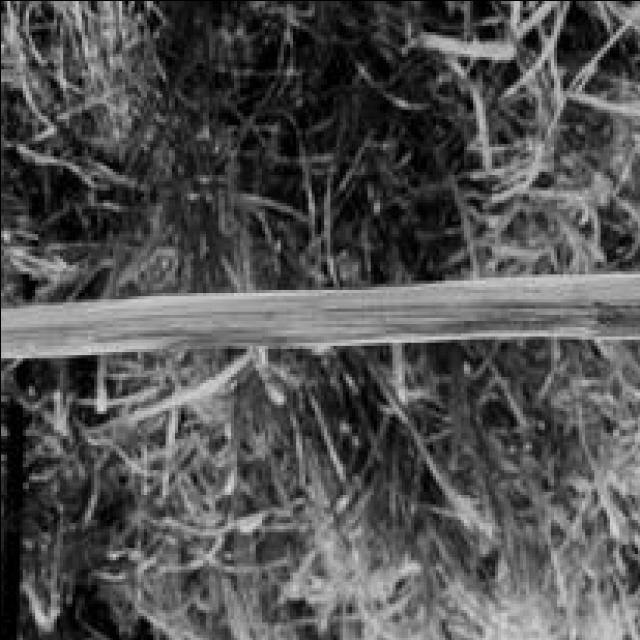Bacterial_Leaf_Blight: (53, 288, 640, 364)
